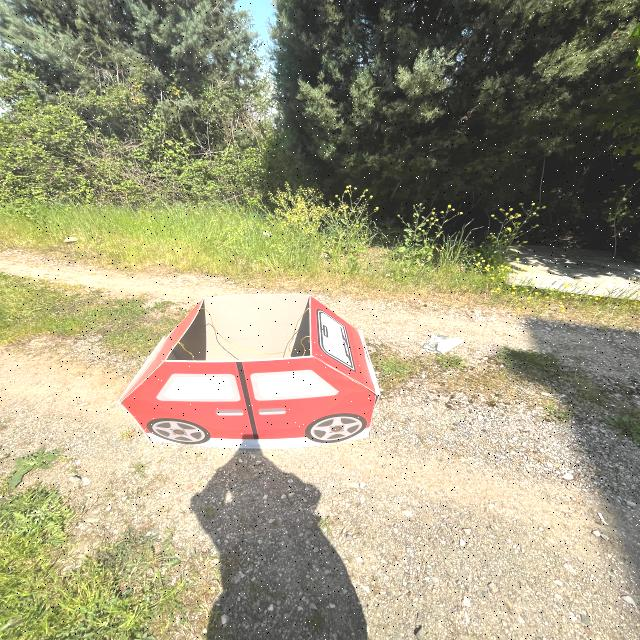red_car: (95, 284, 407, 469)
